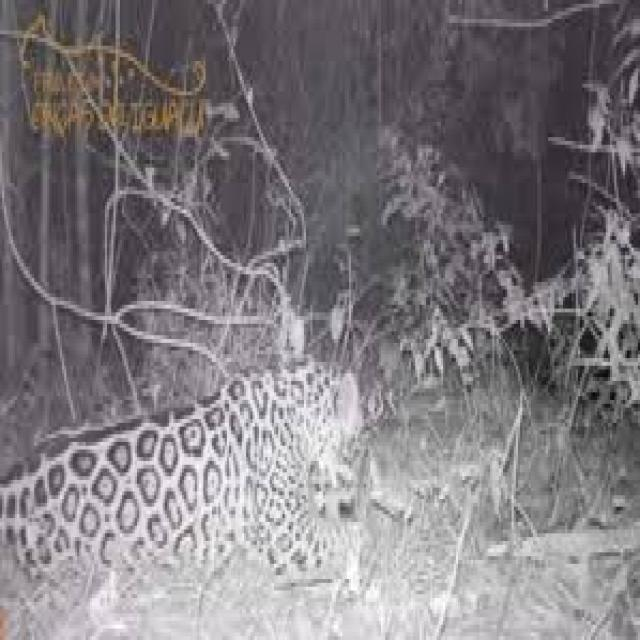Jaguar: (0, 358, 375, 587)
